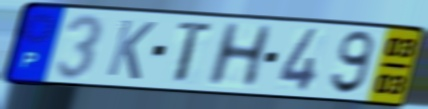3: (53, 11, 108, 84)
4: (277, 27, 320, 94)
9: (328, 28, 378, 98)
H: (203, 21, 277, 89)
K: (103, 17, 159, 82)
T: (173, 18, 217, 86)
